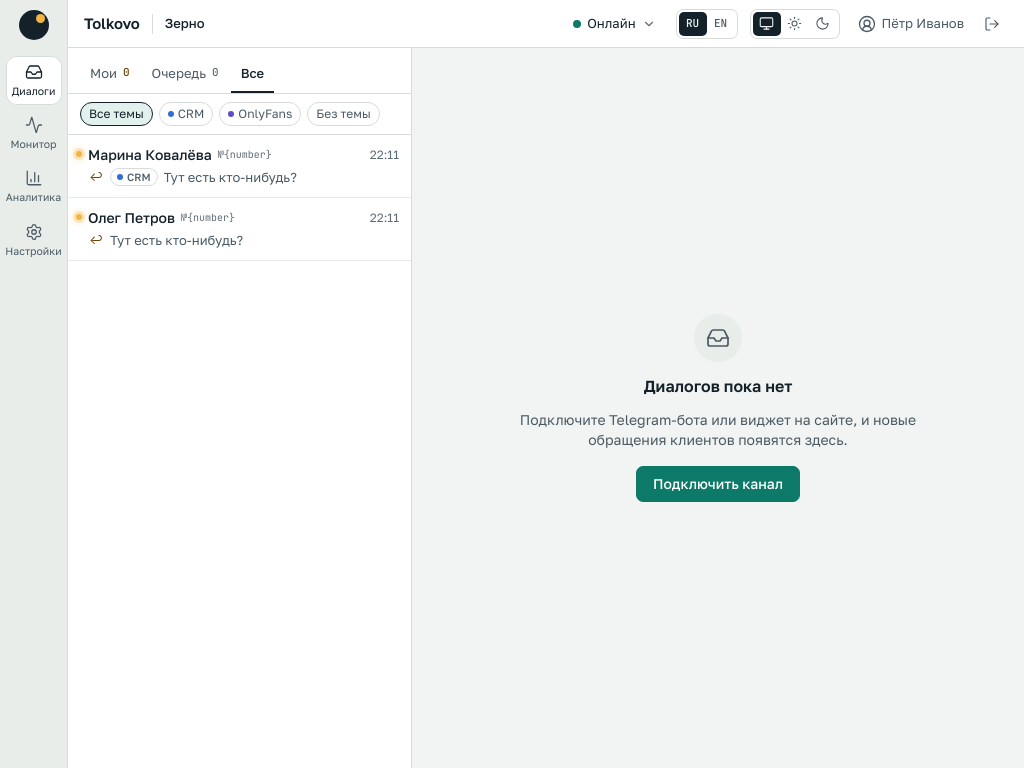
topics in the inbox › shows the topic on rows and filters the list by it
expect the text "CRM" is shown: met, box [110,168,158,186]
Click the button "CRM" at (186, 114), box [159,102,213,126]
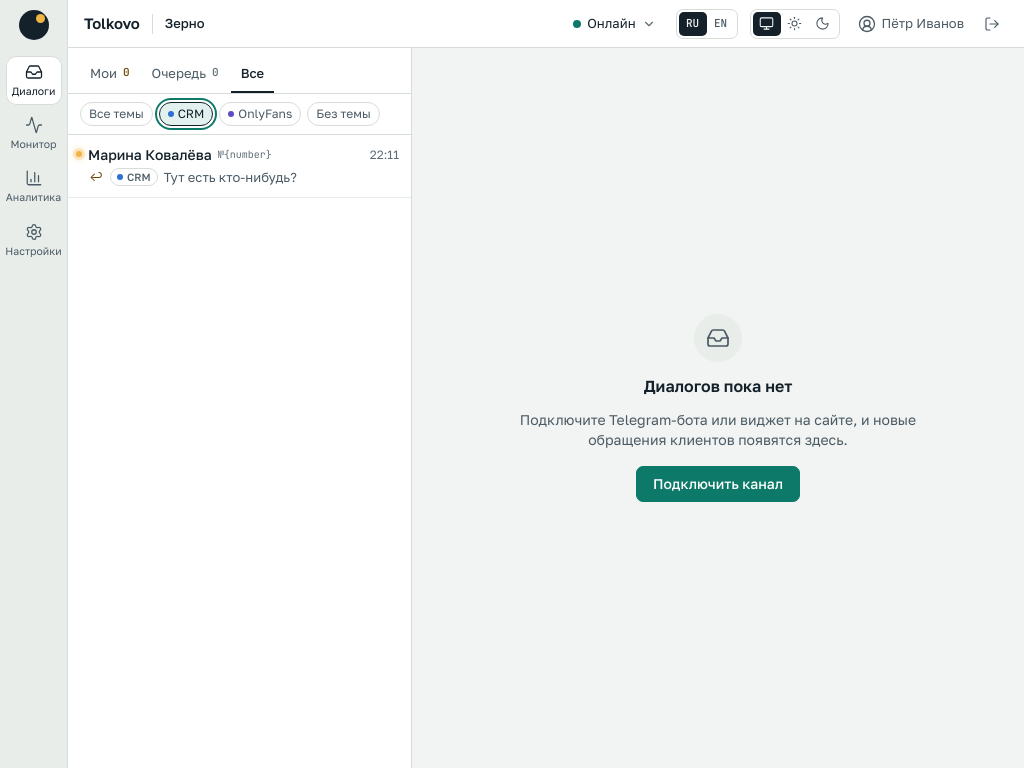
expect the link "Олег Петров" is gone: met
Click the button "Без темы" at (344, 114), box [307,102,380,126]
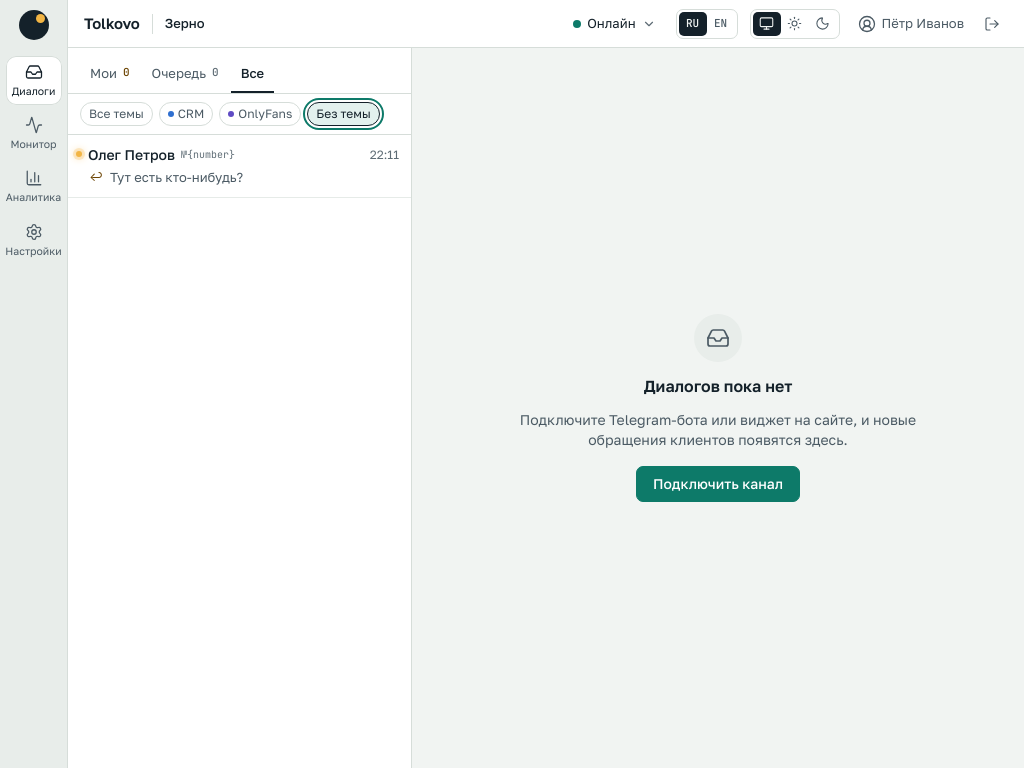
expect the text "Олег Петров" is shown: met, box [88,145,175,165]
expect the link "Марина Ковалёва" is gone: met
